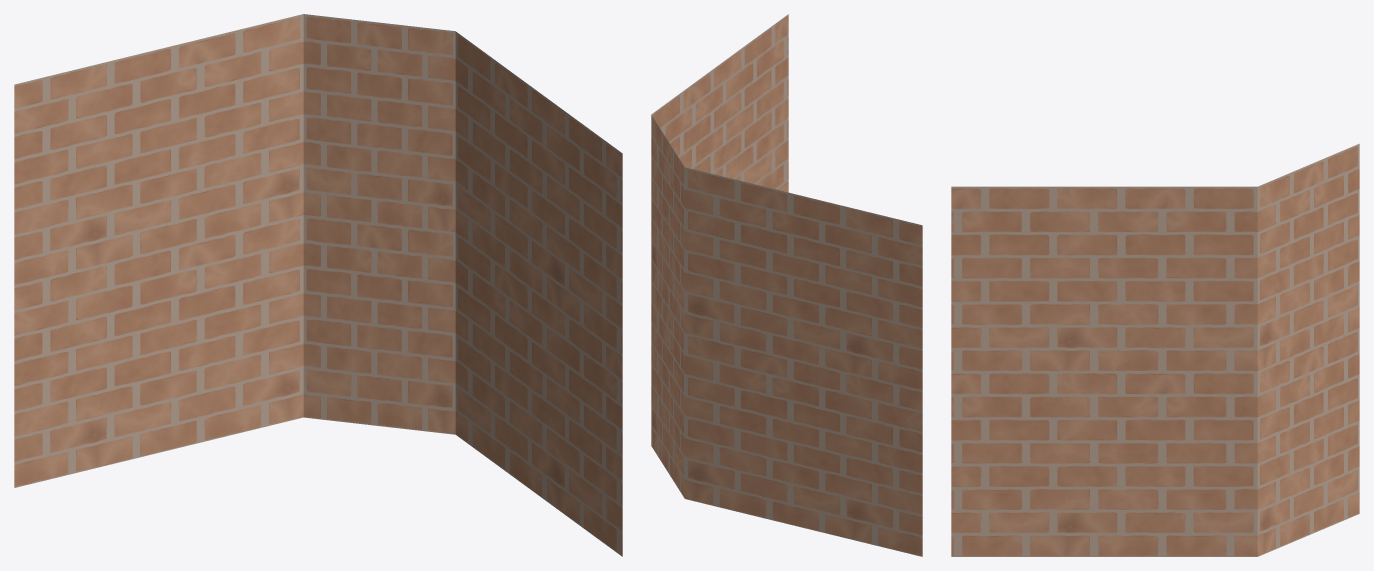
Rendered from Mid_Temp_Wall_Rev_Cor.fbx.
3 renders of one model, left to right at view 1: azimuth 30°, elevation 25°; view 2: azimuth 150°, elevation 25°; view 3: azimuth 270°, elevation 25°, orthographic. The views are drawn at different scales.
Parts seen in each view (by area): view 1: Mid_Temp_Wall_Rev_Cor; view 2: Mid_Temp_Wall_Rev_Cor; view 3: Mid_Temp_Wall_Rev_Cor.
Boxes of the visible parts, x1=… form: Mid_Temp_Wall_Rev_Cor: x1=14, y1=14, x2=622, y2=556; Mid_Temp_Wall_Rev_Cor: x1=651, y1=14, x2=922, y2=556; Mid_Temp_Wall_Rev_Cor: x1=951, y1=143, x2=1359, y2=556.
Size of the model in its own units: 100 by 100 by 100.
1 material, 1 textured.
